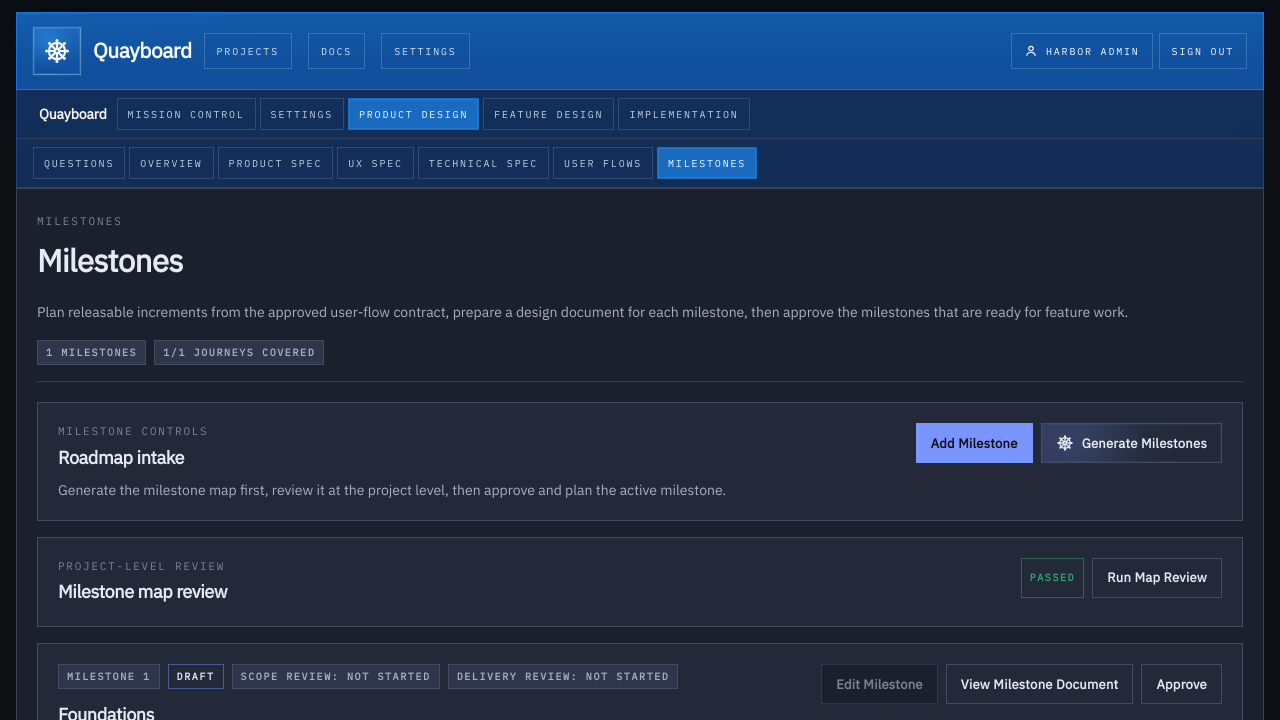
it: workflow pages › blocks milestone approval until a design doc exists
Expected: the heading "Milestones" is shown, [37,240,183,280]
Click the button "Approve" at (1182, 684), box [1142,664,1222,704]
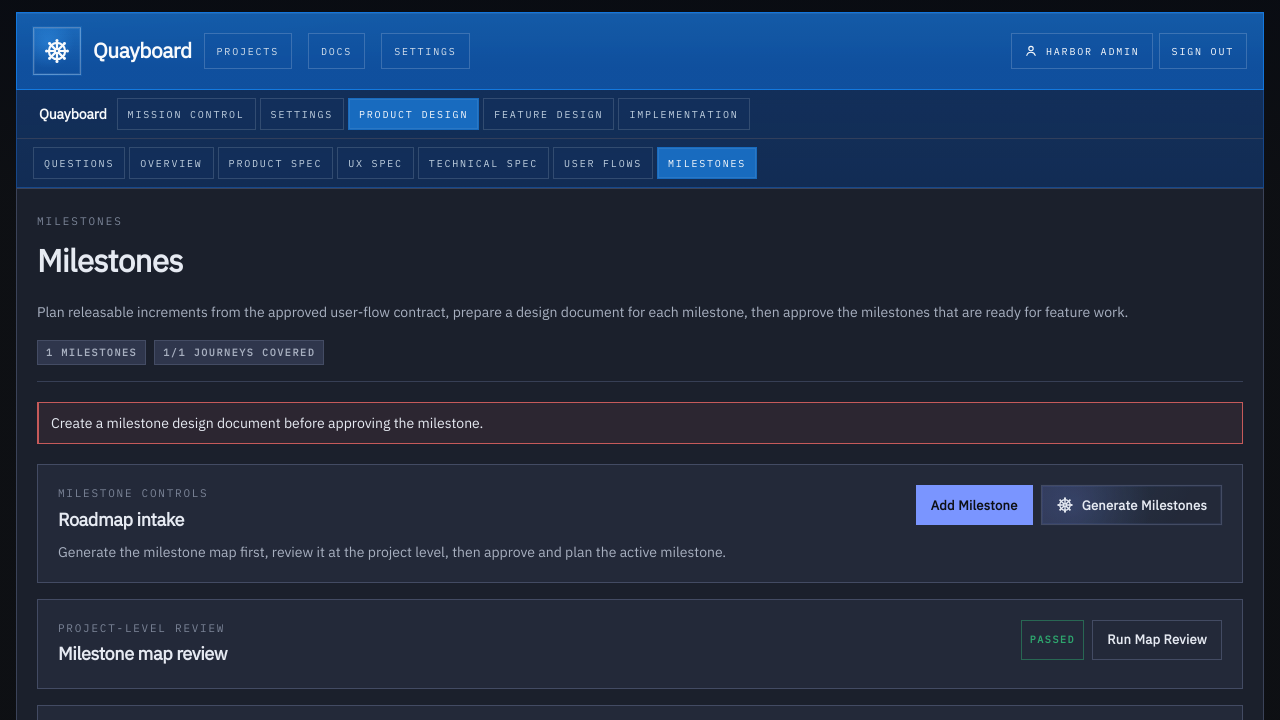
Expected: the text "Create a milestone design document before approving the milestone." is shown, [37,402,1243,444]
